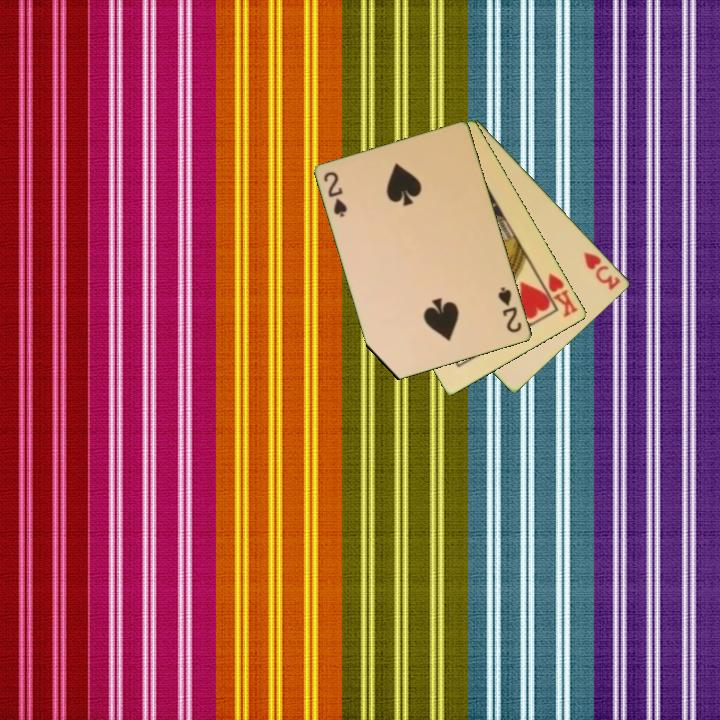2s: (320, 168, 351, 220), (495, 284, 525, 336)
3h: (580, 248, 624, 293)
Kh: (536, 270, 581, 320)
